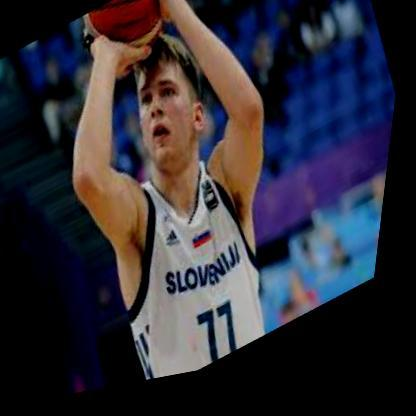basketball: (81, 0, 187, 79)
